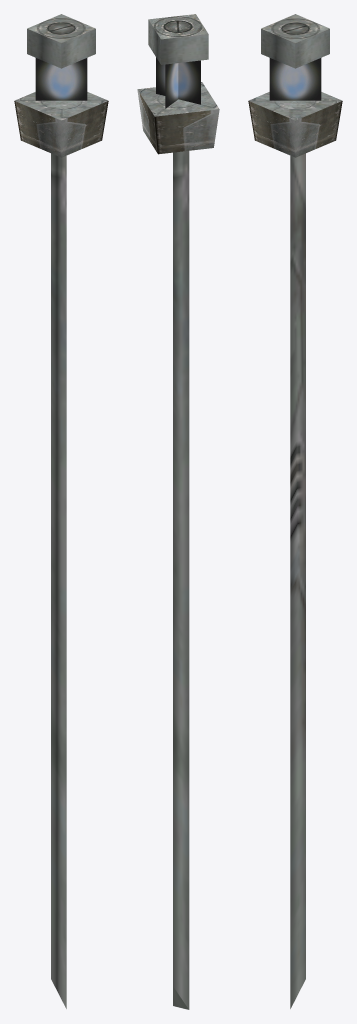
Rendered from frn_all_glow_torch_s1_l1.fbx.
The picture shows the model from 3 angles, left to right: view 1: azimuth 90°, elevation 25°; view 2: azimuth 150°, elevation 25°; view 3: azimuth 270°, elevation 25°; orthographic projection.
Parts seen in each view (by area): view 1: mesh_node; view 2: mesh_node; view 3: mesh_node.
Part boxes in pixels (<box>): mesh_node: <box>14,14,108,1008</box>; mesh_node: <box>137,14,219,1009</box>; mesh_node: <box>248,14,342,1008</box>.
Size of the model in its own units: 0.1325 by 1.51 by 0.1325.
Materials: 2 (2 with a texture image).
